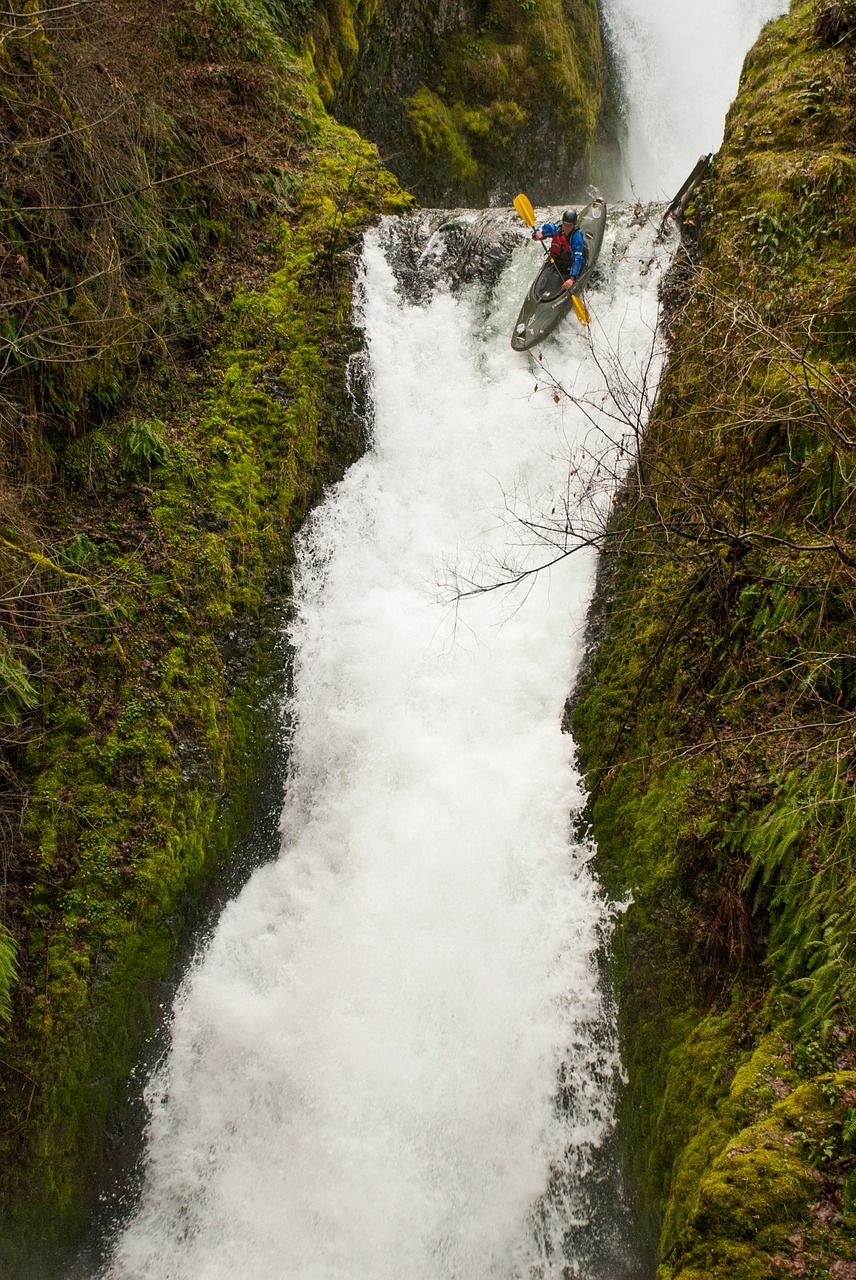kayak: (509, 191, 614, 352)
